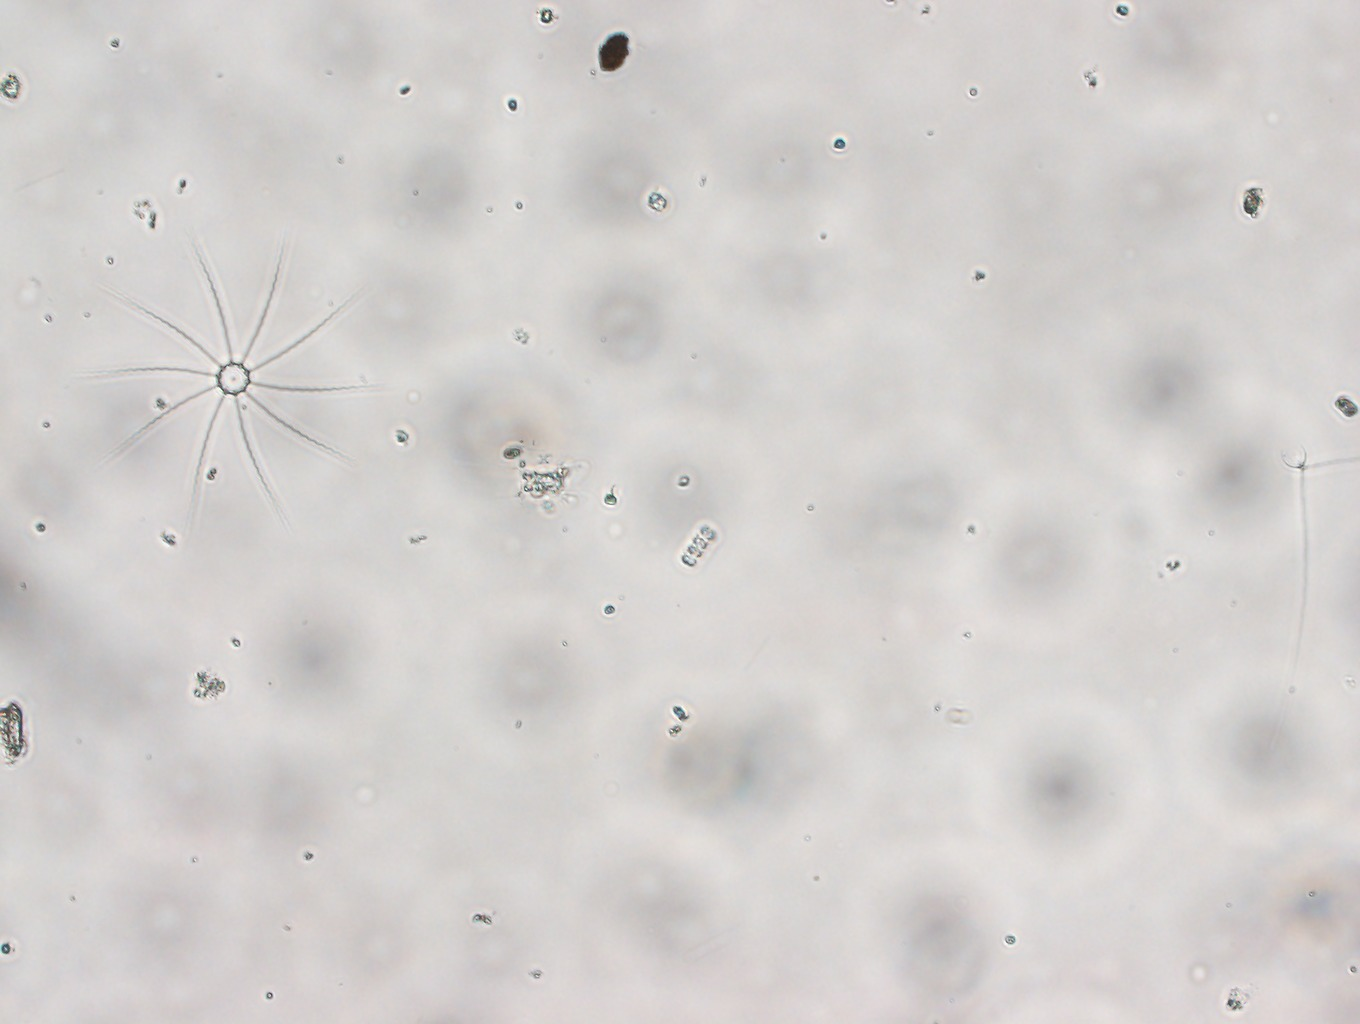bacteriastrum: (76, 227, 384, 520)
